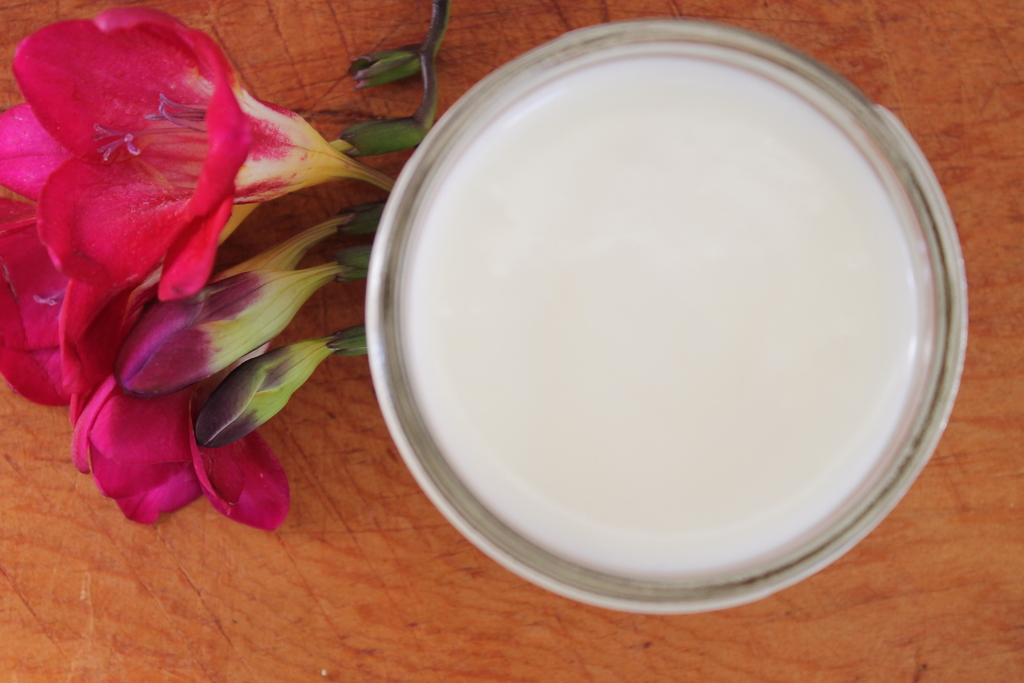plate: (376, 28, 947, 561)
